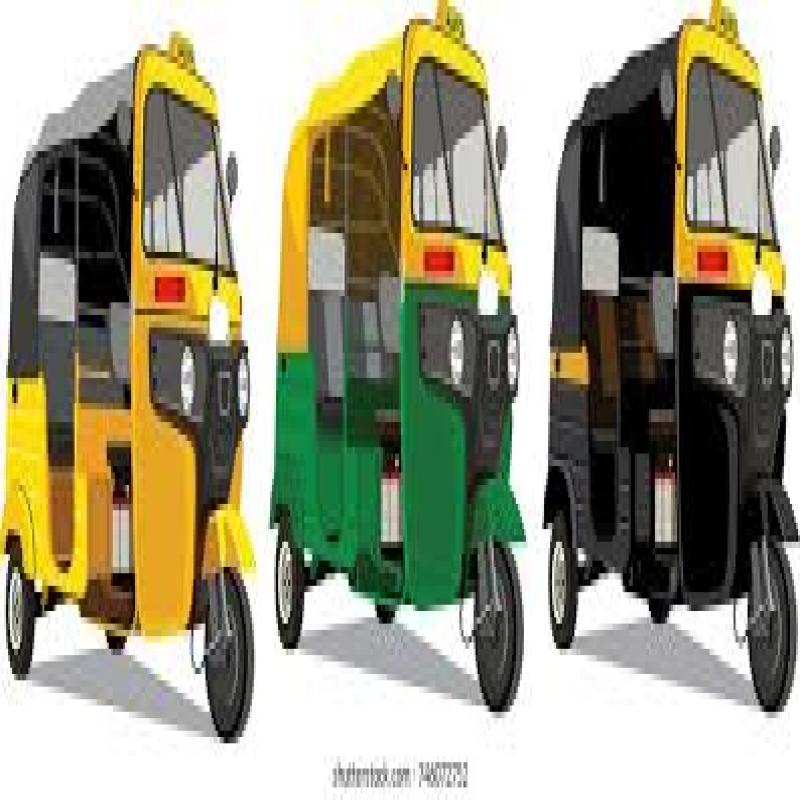auto: (261, 33, 522, 760), (6, 7, 256, 749), (540, 7, 790, 747)
